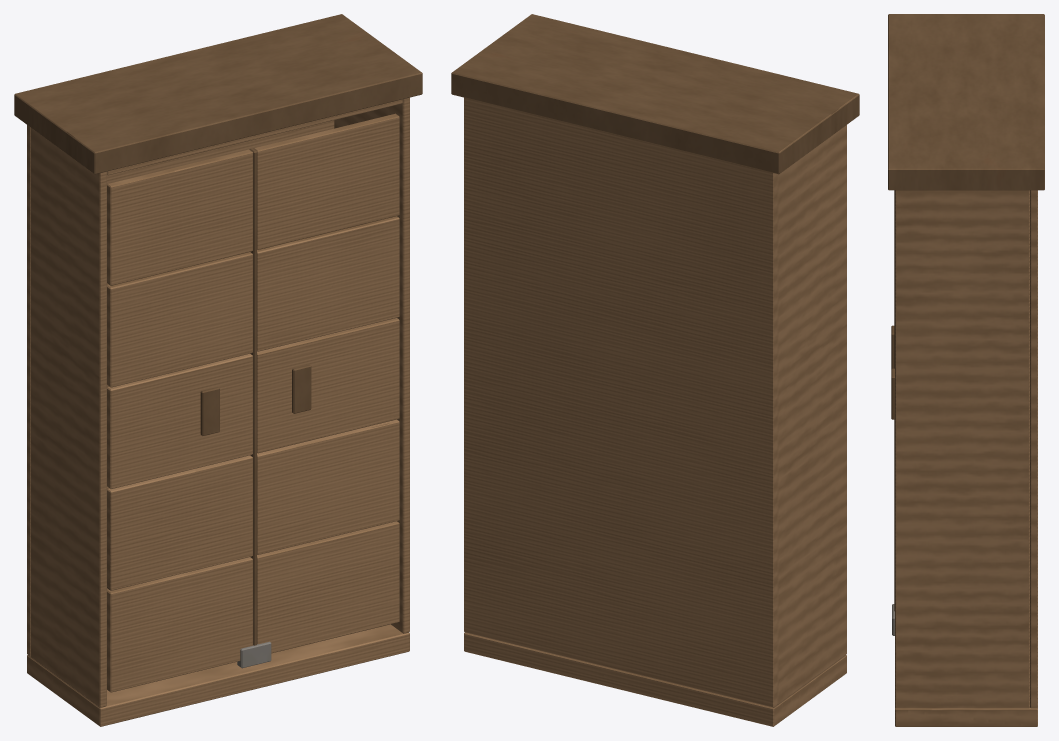
Rendered from furn_cupboard.glb.
3 views of the same model, side by side, from view 1: azimuth 30°, elevation 25°; view 2: azimuth 150°, elevation 25°; view 3: azimuth 270°, elevation 25° (orthographic). The views are drawn at different scales.
Visible parts, largest first — view 1: furn_cupboard; view 2: furn_cupboard; view 3: furn_cupboard.
Boxes of the visible parts, x1=… form: furn_cupboard: x1=14, y1=14, x2=422, y2=726; furn_cupboard: x1=451, y1=14, x2=859, y2=726; furn_cupboard: x1=888, y1=14, x2=1044, y2=726.
Size of the model in its own units: 1.08 by 1.82 by 0.46.
1 material, 1 textured.
